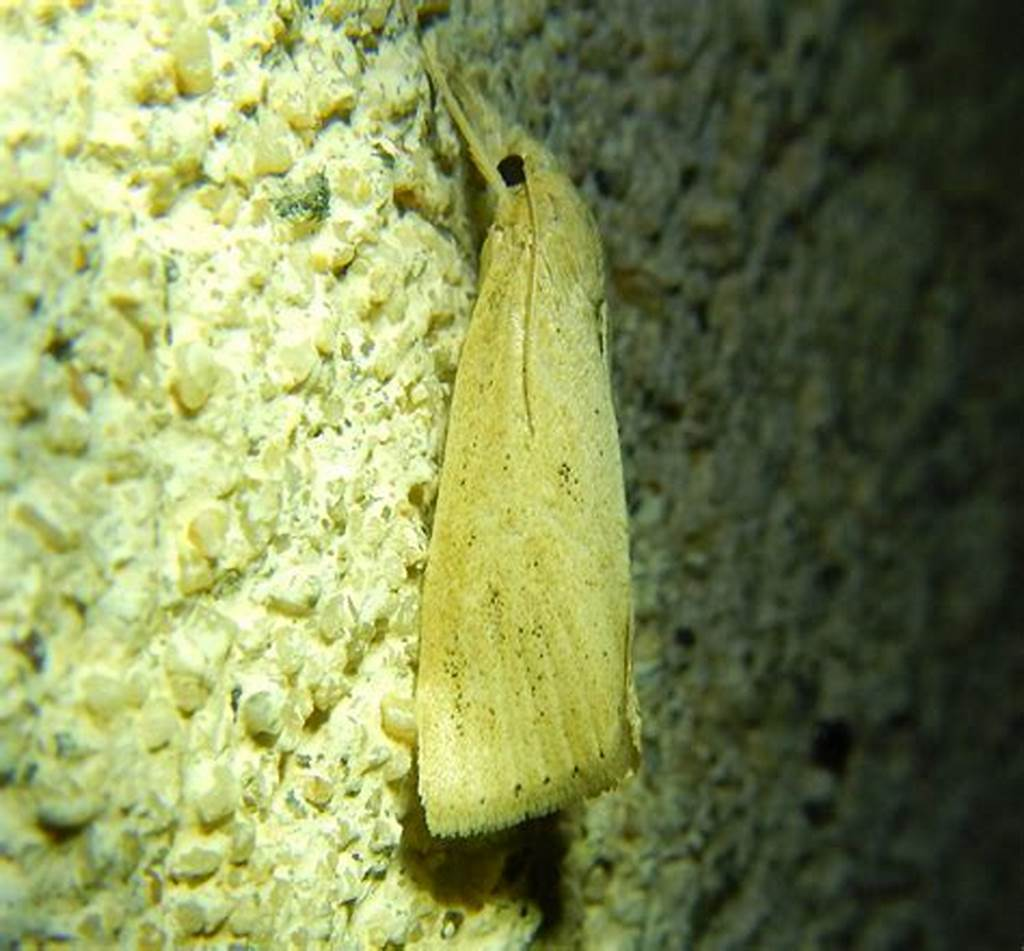Crambidae: (400, 17, 654, 848)
